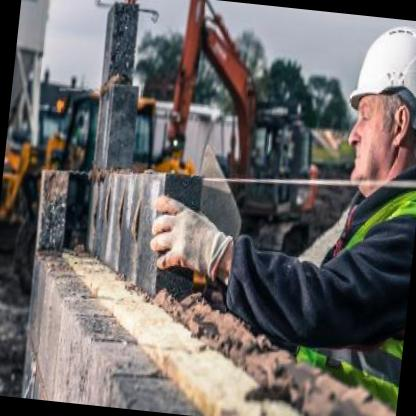bee: (329, 13, 416, 193)
